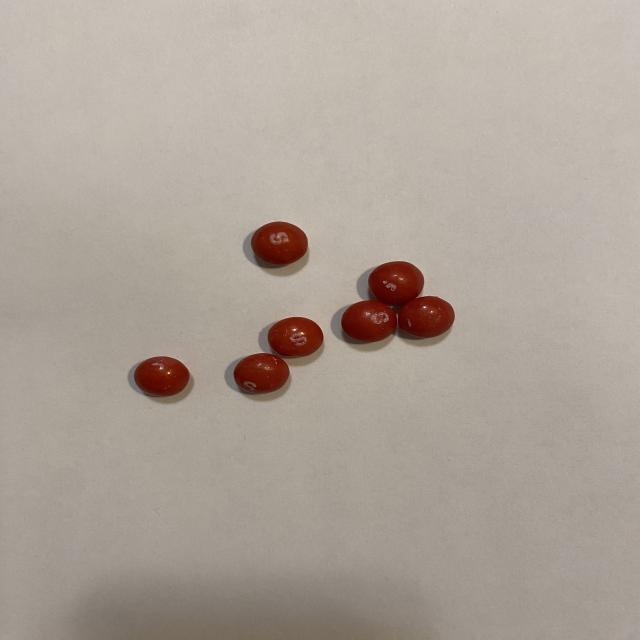smartie: (251, 221, 307, 264), (368, 261, 424, 304), (398, 296, 455, 338), (233, 353, 289, 394), (341, 301, 397, 342), (133, 357, 189, 397), (268, 317, 323, 357)
